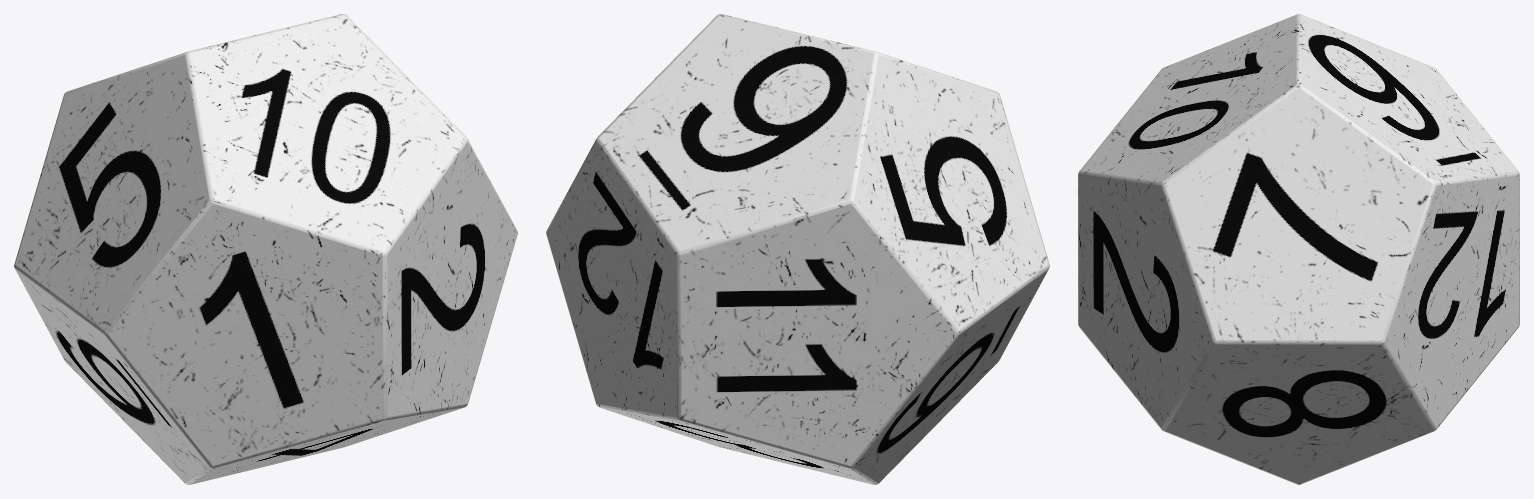
The picture shows the model from 3 angles, left to right: view 1: azimuth 30°, elevation 25°; view 2: azimuth 150°, elevation 25°; view 3: azimuth 270°, elevation 25°; orthographic projection. The views are drawn at different scales.
Parts seen in each view (by area): view 1: dodecahedron1:Mesh; view 2: dodecahedron1:Mesh; view 3: dodecahedron1:Mesh.
Boxes of the visible parts, x1,y1,x2,y2 form: dodecahedron1:Mesh: [14, 14, 517, 484]; dodecahedron1:Mesh: [546, 14, 1049, 484]; dodecahedron1:Mesh: [1078, 14, 1519, 484].
Size of the model in its own units: 3.22 by 3.22 by 3.22.
